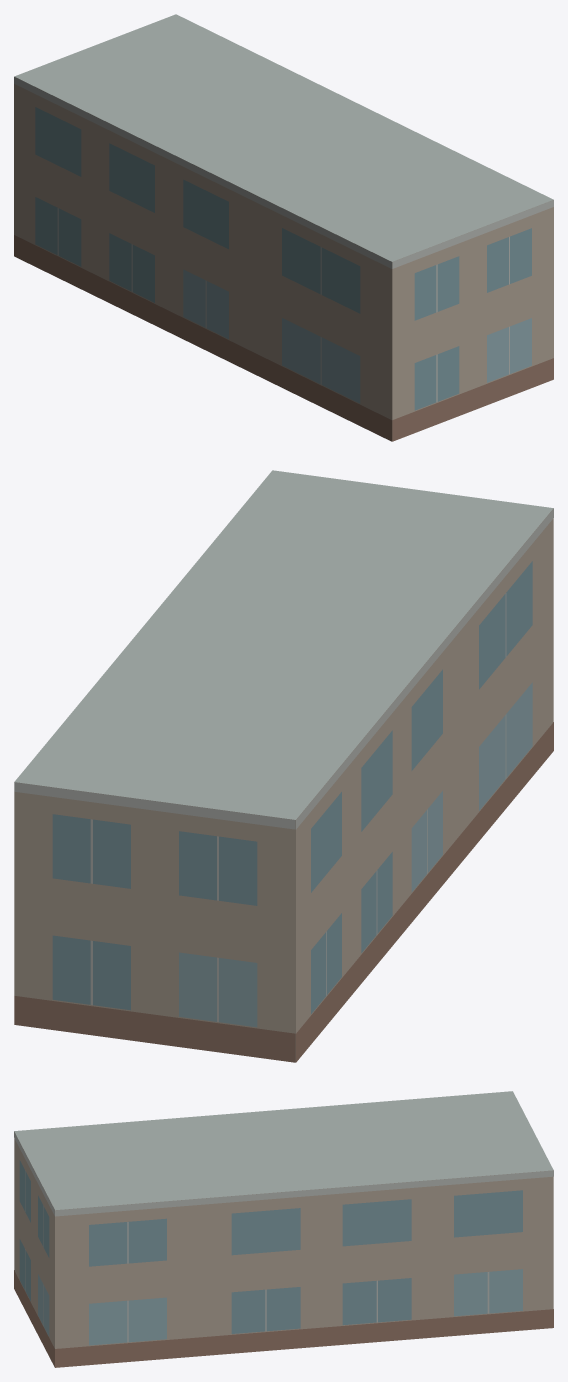
Rendered from survey-upis-32699683.glb.
The picture shows the model from 3 angles, top to bottom: view 1: azimuth 30°, elevation 25°; view 2: azimuth 150°, elevation 25°; view 3: azimuth 270°, elevation 25°; orthographic projection. The views are drawn at different scales.
Visible parts, largest first — view 1: survey-upis-32699683.tmp; view 2: survey-upis-32699683.tmp; view 3: survey-upis-32699683.tmp.
Boxes of the visible parts, x1=… form: survey-upis-32699683.tmp: x1=14, y1=14, x2=553, y2=441; survey-upis-32699683.tmp: x1=14, y1=470, x2=553, y2=1062; survey-upis-32699683.tmp: x1=14, y1=1091, x2=553, y2=1367.
Size of the model in its own units: 9.9 by 6.1 by 18.94.
